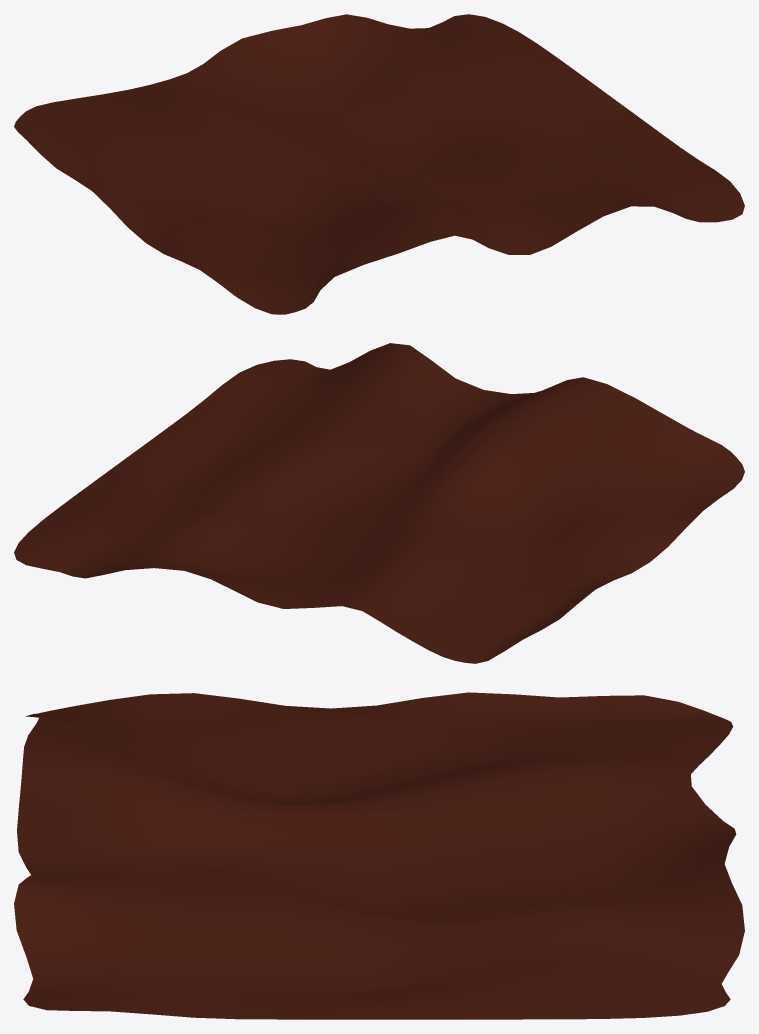
Rendered from G477cloth.fbx.
The picture shows the model from 3 angles, top to bottom: view 1: azimuth 30°, elevation 25°; view 2: azimuth 150°, elevation 25°; view 3: azimuth 270°, elevation 25°; orthographic projection. The views are drawn at different scales.
Visible parts, largest first — view 1: Cloth.001; view 2: Cloth.001; view 3: Cloth.001.
Boxes of the visible parts, box(x1,y1,x2,y2) form: Cloth.001: box(14, 14, 744, 314); Cloth.001: box(14, 343, 744, 663); Cloth.001: box(14, 692, 744, 1019).
Size of the model in its own units: 21.56 by 2.31 by 21.48.
